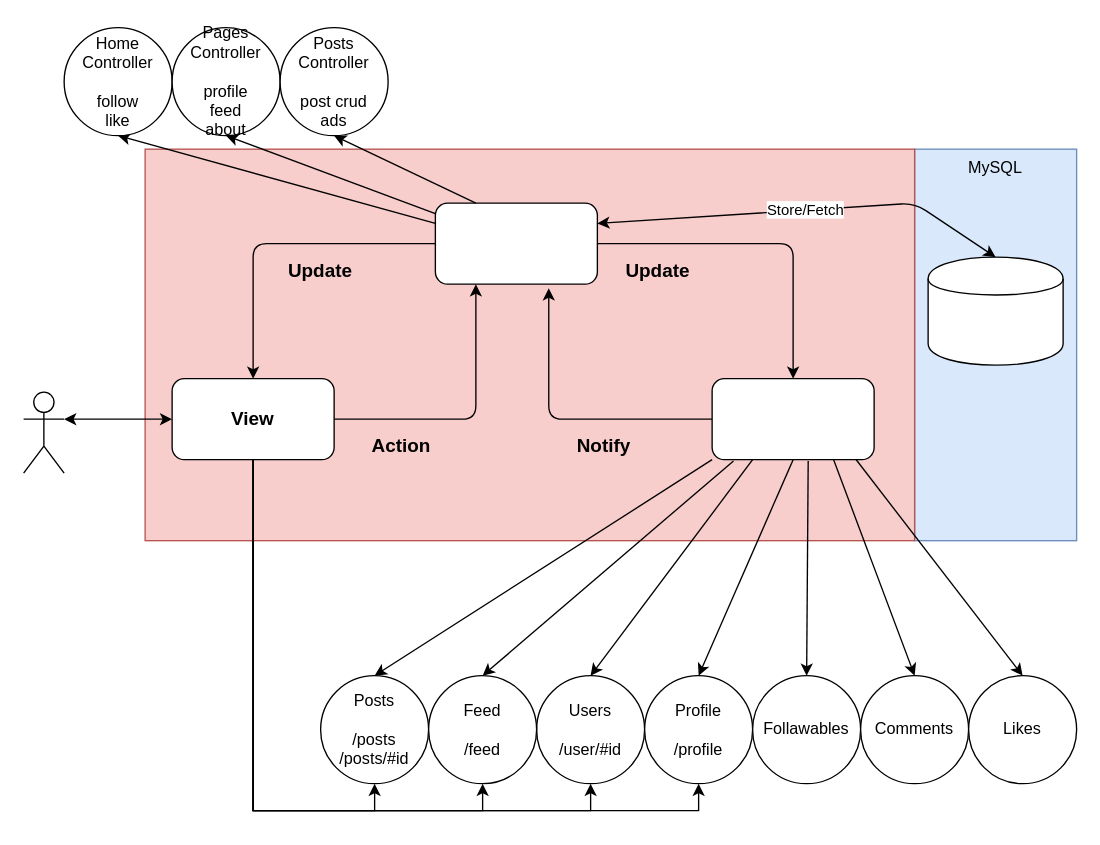
This 1100x845 diagram has some shape labels left out. Here are the shapes that lost their labels. From the top down, the box of each, then its label:
(434, 202, 597, 284): Controller
(927, 256, 1063, 365): Database
(144, 148, 915, 541): Laravel Framework
(22, 391, 64, 473): Actor
(711, 377, 874, 460): Model
